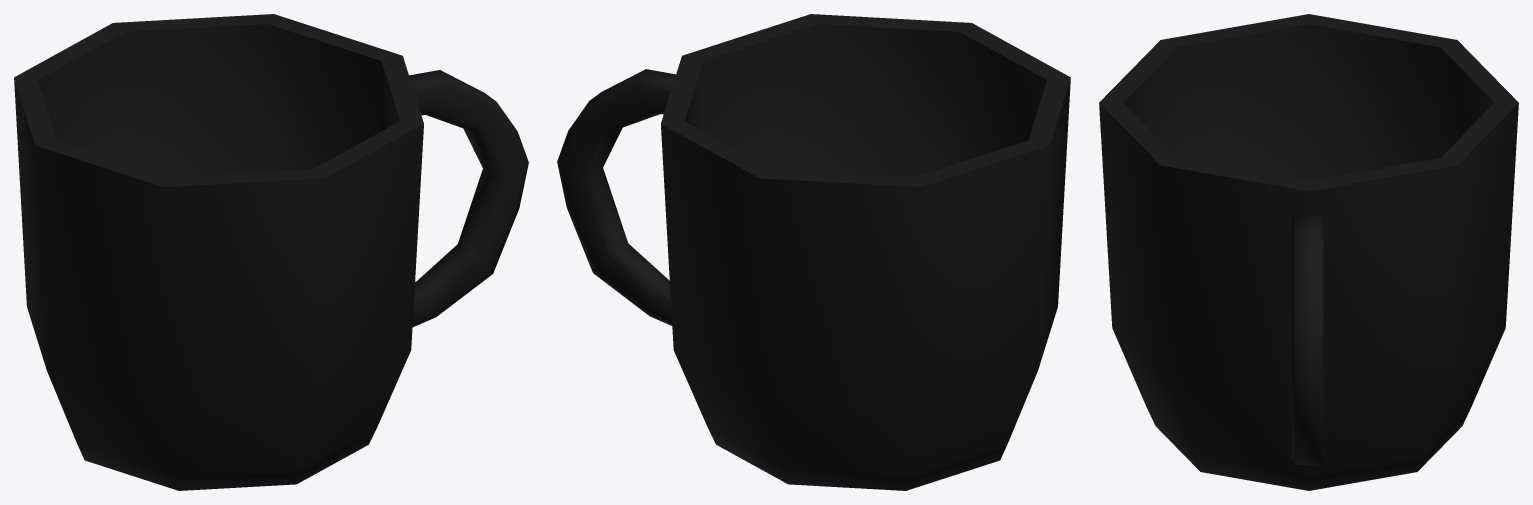
Rendered from Coffee_Cup_02.FBX.
3 views of the same model, side by side, from view 1: azimuth 30°, elevation 25°; view 2: azimuth 150°, elevation 25°; view 3: azimuth 270°, elevation 25° (orthographic).
Parts seen in each view (by area): view 1: Coffee Cup; view 2: Coffee Cup; view 3: Coffee Cup.
Boxes of the visible parts, x1,y1,x2,y2 form: Coffee Cup: [14, 14, 528, 490]; Coffee Cup: [557, 14, 1070, 490]; Coffee Cup: [1099, 14, 1518, 490].
Bounding box in the file's own units: 44.01 × 28.24 × 33.22.
